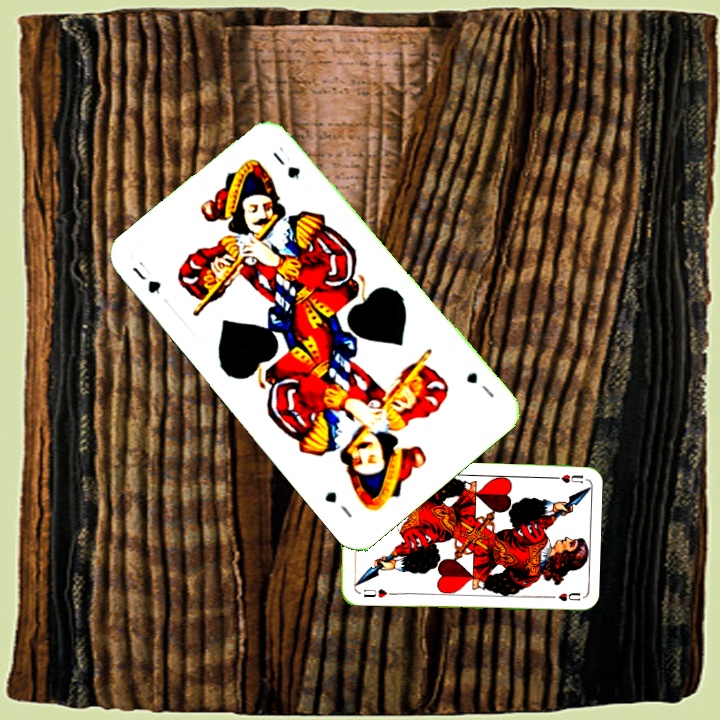GU: (128, 256, 164, 296), (462, 368, 497, 401)
HU: (546, 470, 586, 485), (359, 585, 390, 600)
